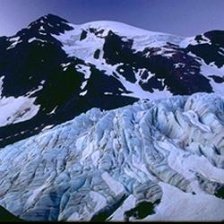neutral: (1, 1, 223, 219)
